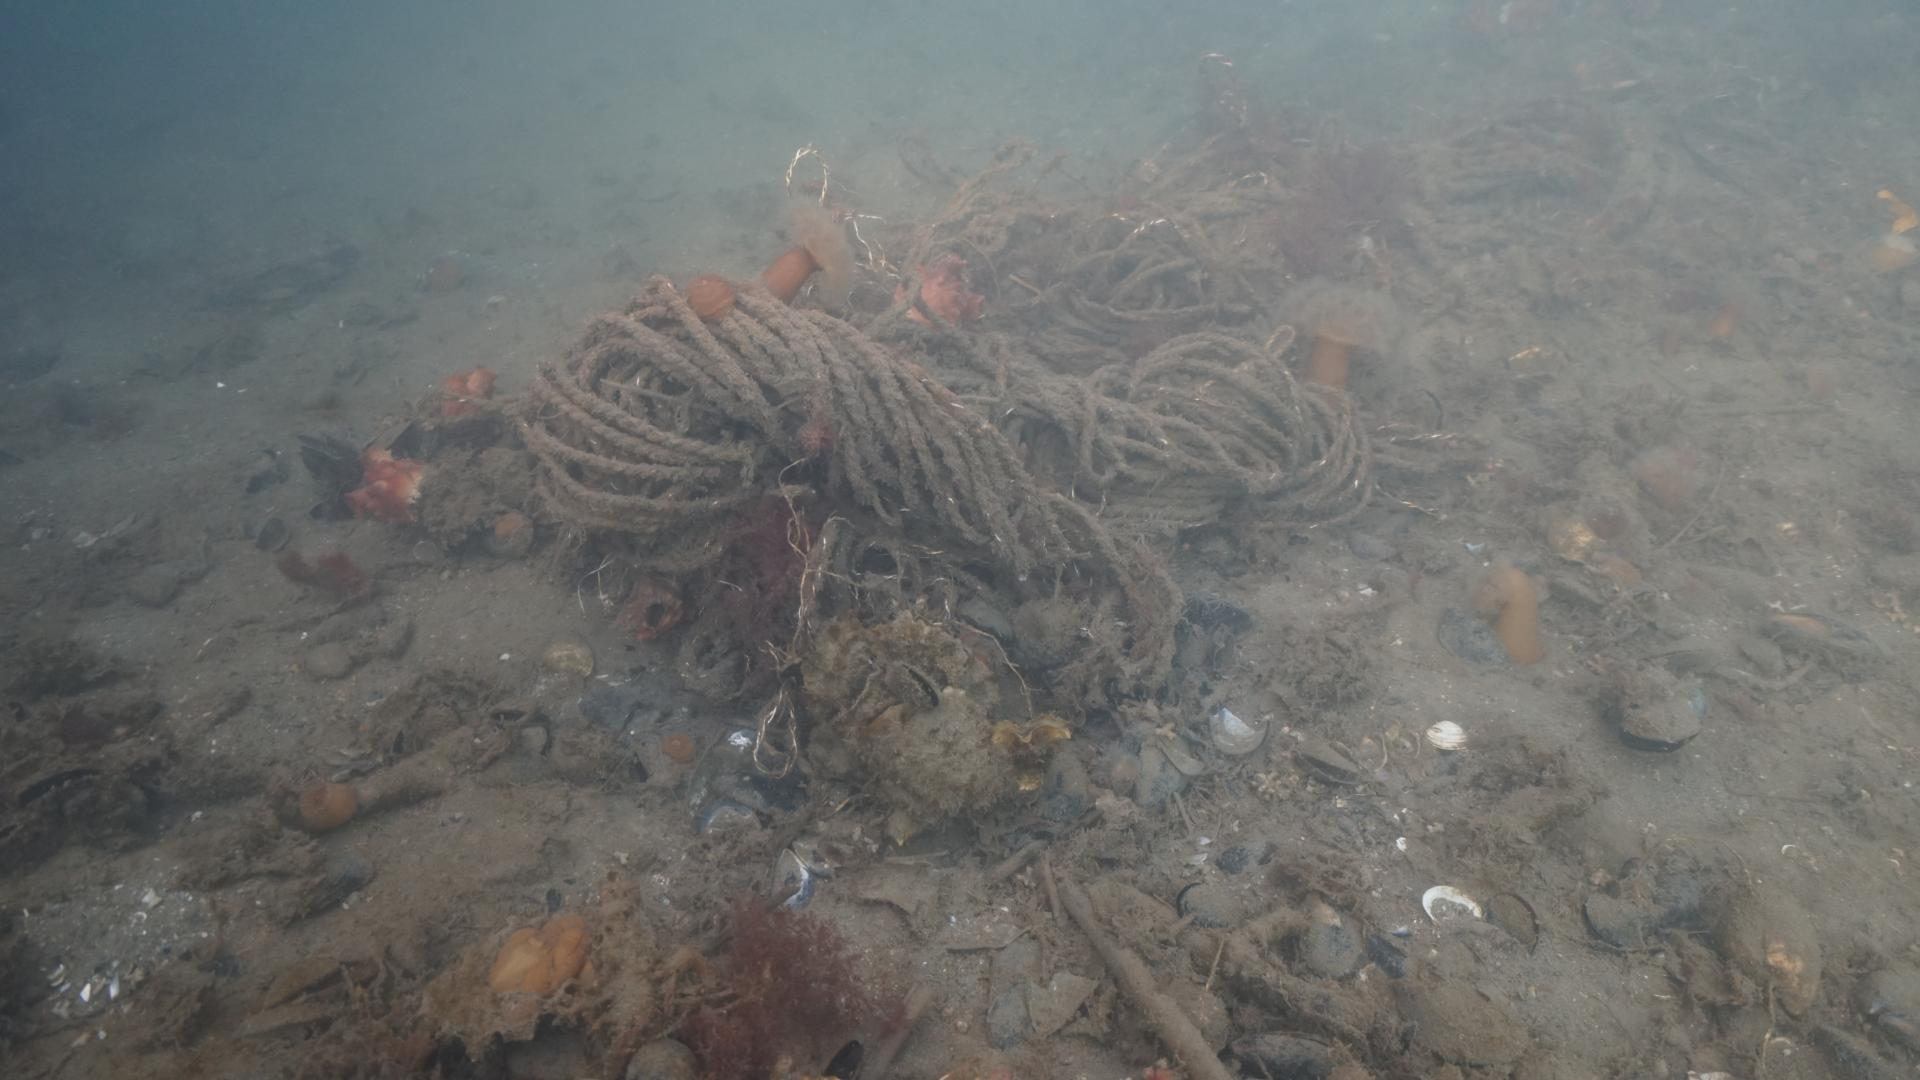bundle of ropes: (510, 50, 1377, 774)
